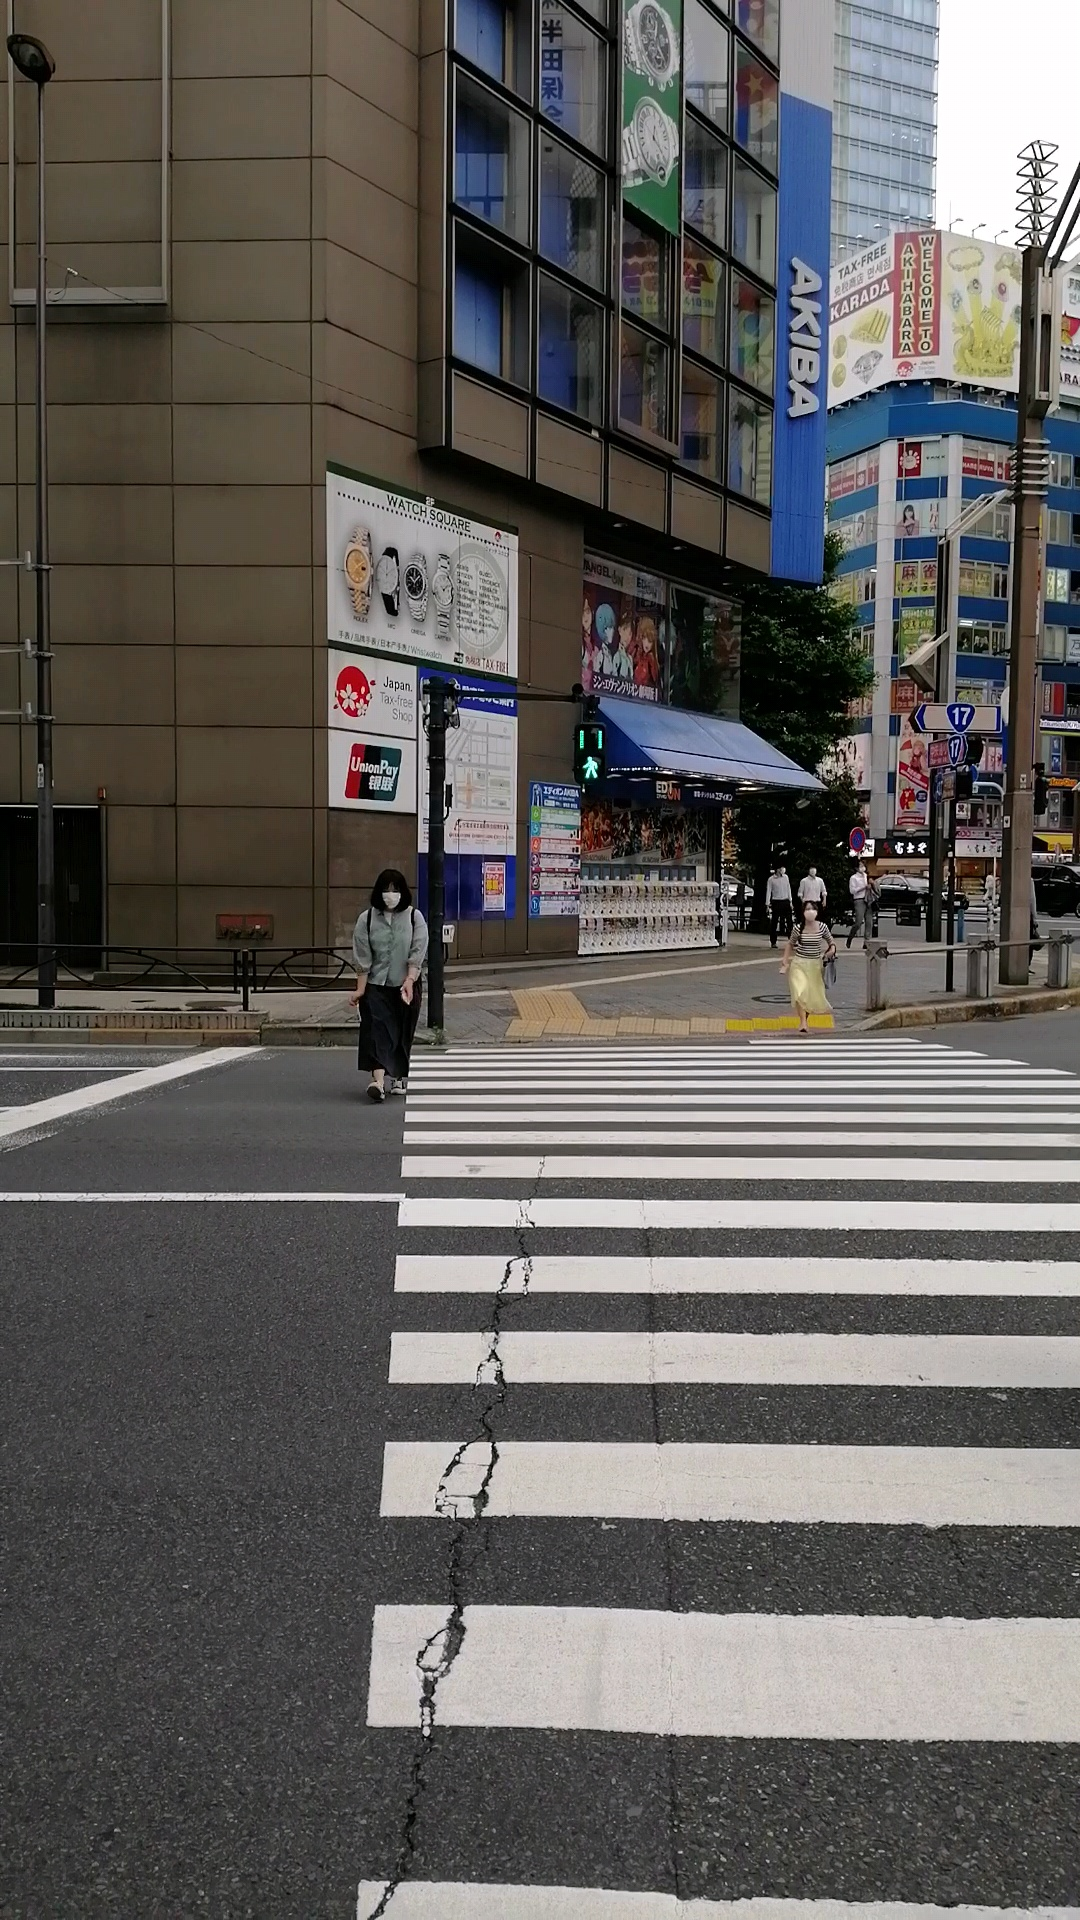green: (572, 720, 607, 785)
